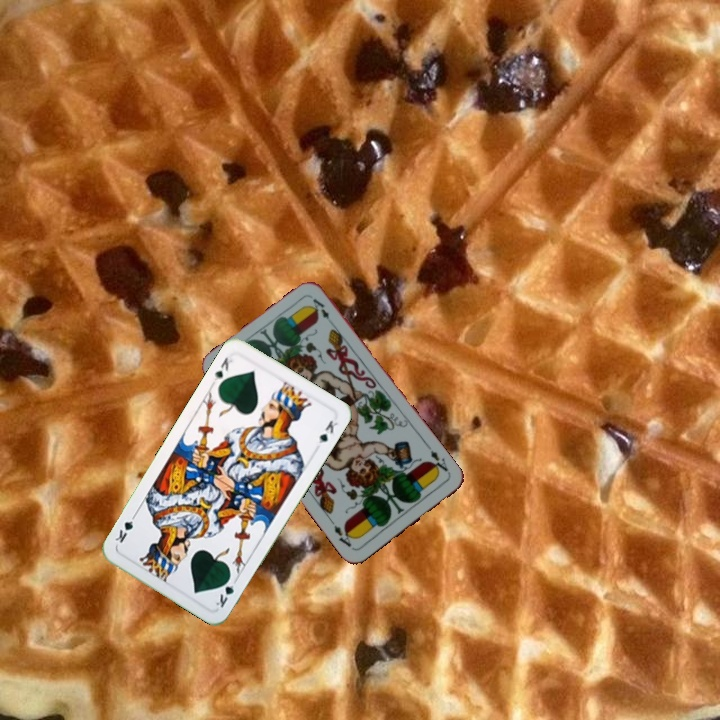EA: (423, 442, 453, 477)
GK: (211, 572, 240, 610), (210, 353, 235, 384)
